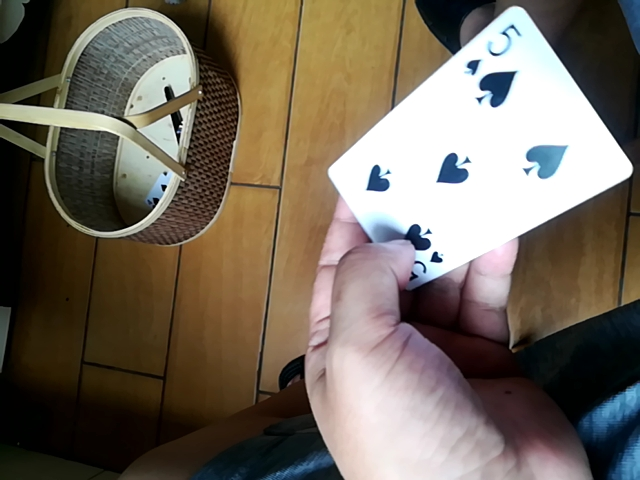ht 5: (327, 2, 632, 292)
